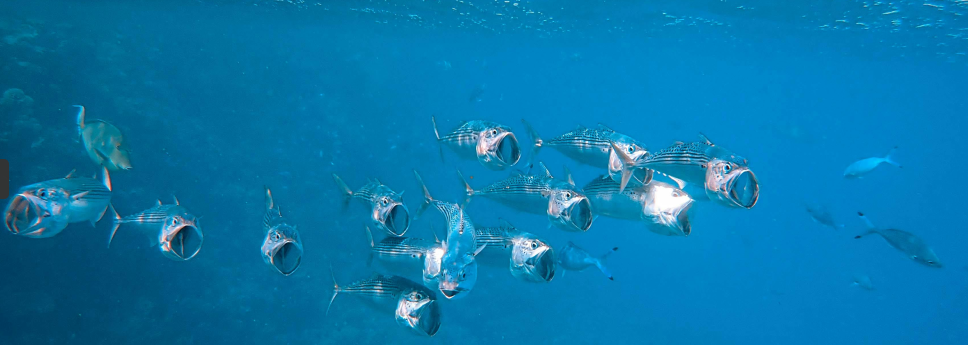fishLarge: (610, 134, 760, 211), (414, 165, 488, 301), (456, 160, 596, 231), (561, 166, 697, 238), (523, 118, 653, 186), (322, 264, 443, 335), (5, 166, 112, 240), (454, 232, 595, 281), (110, 193, 206, 262), (475, 218, 557, 284), (364, 225, 444, 291), (332, 172, 411, 236), (430, 114, 521, 169), (259, 187, 305, 276)
fishRound: (71, 103, 134, 173)
fishSmall: (855, 208, 944, 270), (559, 240, 619, 283), (842, 146, 902, 181)
